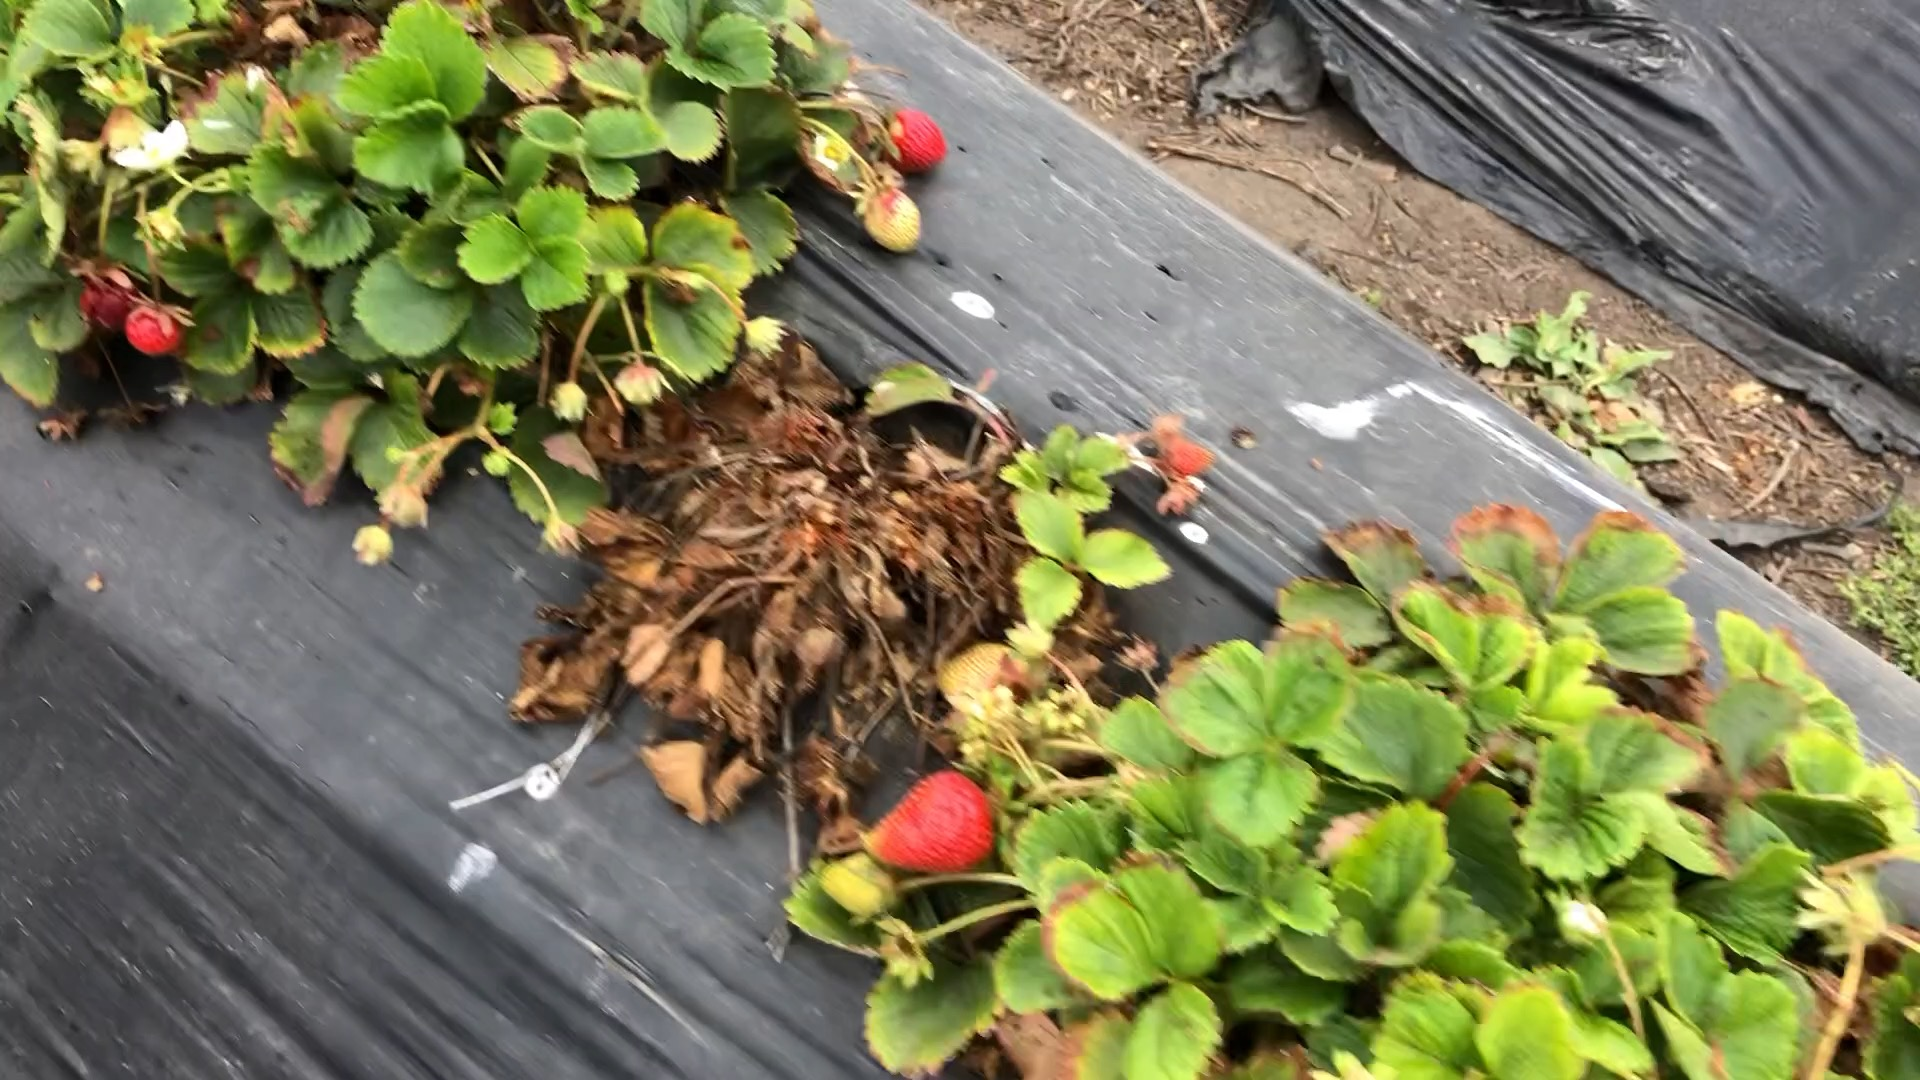ripe_strawberry: (855, 761, 1004, 880), (876, 108, 952, 175), (124, 294, 194, 357), (84, 262, 132, 331)
unripe_strawberry: (934, 640, 1035, 704), (856, 175, 928, 256), (818, 848, 901, 918)
